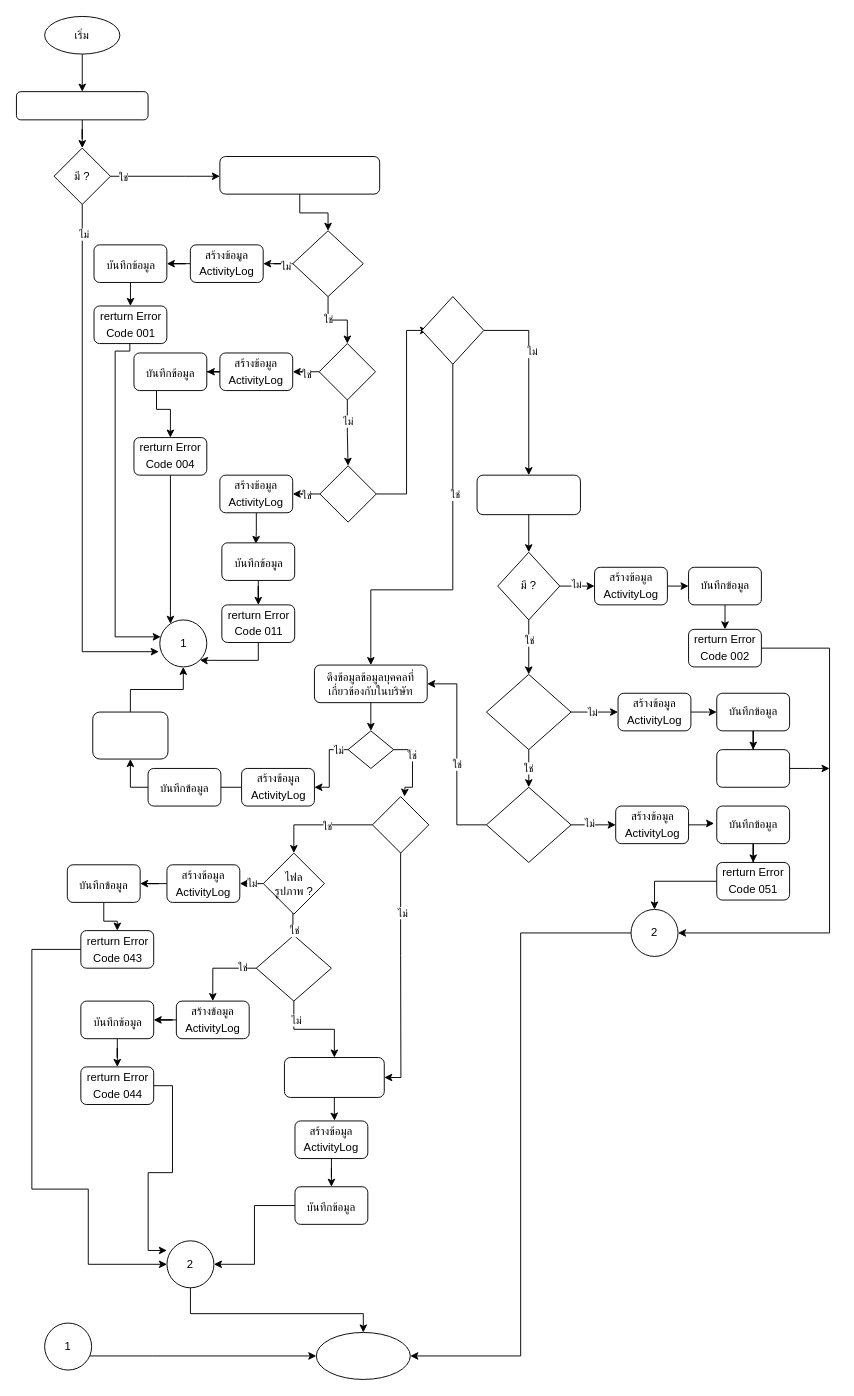
This 854x1396 diagram has some shape labels left out. Here are the shapes that lost their labels. From the top down, the centre of each, then its label:
At (82,105): "ตรวจสอบสิทธิ์การใช้งาน".
At (299,175): "ตรวจสอบ Account สถานะการใช้งาน".
At (327,263): "มีใน ระบบ ?".
At (452,330): "Super Admin ?".
At (347,371): "status = 1 ?".
At (347,493): "Locked = 1 ?".
At (528,494): "ตรวจสอบสิทธิ์การใช้งาน Company นี้ไหม".
At (528,712): "Company มีในระบบ ไหม ?".
At (130,735): "return Error code 050".
At (370,749): "มี?".
At (753,768): "rerturn Error Code 007".
At (400,824): "Picture?".
At (528,824): "Company Active ?".
At (293,967): "ขนาดไฟล > 50mb ?".
At (334,1077): "แก้ไขข้อมูลบุคคลที่เกี่ยวข้องกับในบริษัท".
At (362,1355): "สิ้นสุด".
